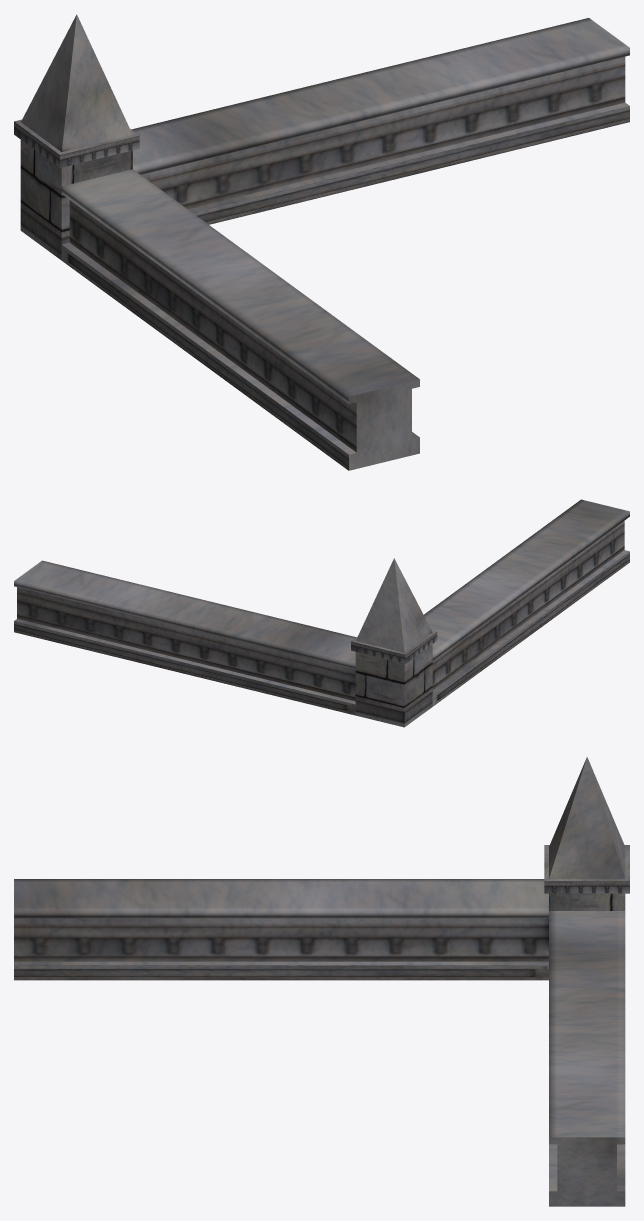
The model's file is railing_outside_inner_corner_01.fbx.
3 renders of one model, top to bottom at view 1: azimuth 30°, elevation 25°; view 2: azimuth 150°, elevation 25°; view 3: azimuth 270°, elevation 25°, orthographic. The views are drawn at different scales.
Visible parts, largest first — view 1: railing_outside_inner_corner_01; view 2: railing_outside_inner_corner_01; view 3: railing_outside_inner_corner_01.
Part boxes in pixels (x1,y1,x2,y2): railing_outside_inner_corner_01: (14, 14, 629, 470); railing_outside_inner_corner_01: (14, 499, 629, 727); railing_outside_inner_corner_01: (14, 757, 629, 1206).
Size of the model in its own units: 806 by 300 by 806.
